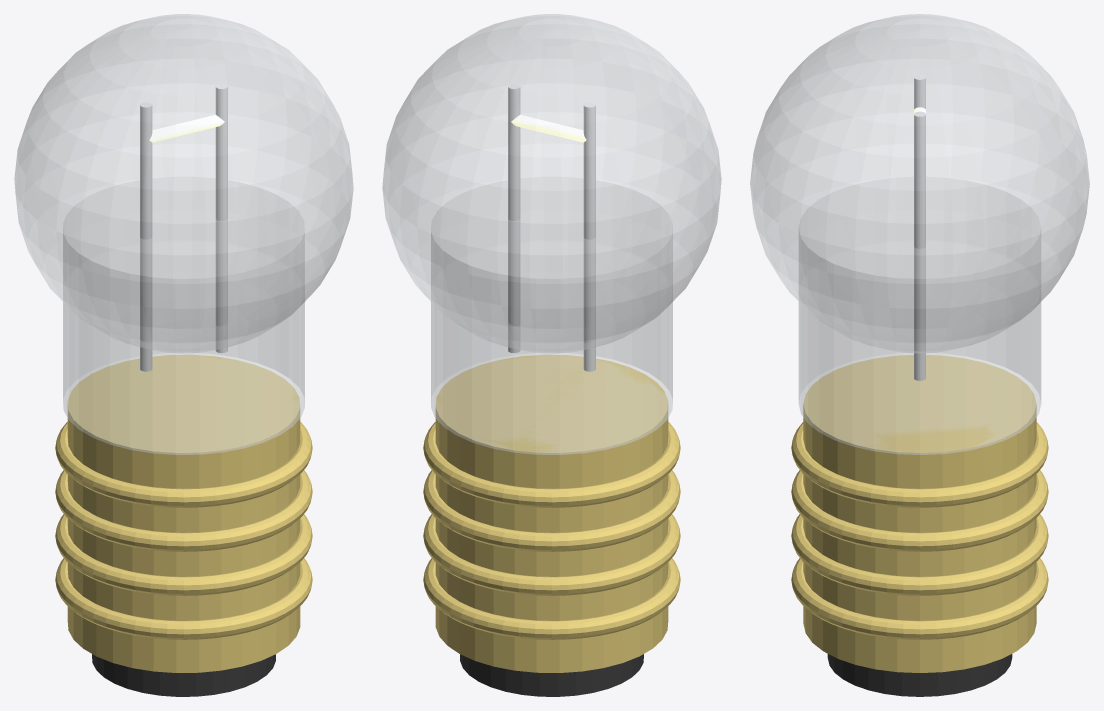
Rendered from bulb_incandescent.glb.
3 views of the same model, side by side, from view 1: azimuth 30°, elevation 25°; view 2: azimuth 150°, elevation 25°; view 3: azimuth 270°, elevation 25° (orthographic).
Parts seen in each view (by area): view 1: Bulb_Glass_Dome, Bulb_Glass_Neck, Bulb_Screw_Base, Torus.003, Torus, Torus.001, Torus.002, Cylinder.002, Cylinder, Cylinder.001, Bulb_Filament_Tungsten; view 2: Bulb_Glass_Dome, Bulb_Glass_Neck, Bulb_Screw_Base, Torus.003, Torus, Torus.001, Torus.002, Cylinder.002, Cylinder, Cylinder.001, Bulb_Filament_Tungsten; view 3: Bulb_Glass_Dome, Bulb_Glass_Neck, Bulb_Screw_Base, Torus.003, Torus, Torus.002, Torus.001, Cylinder.002, Cylinder.001.
Boxes of the visible parts, x1=… form: Bulb_Glass_Dome: x1=14, y1=14, x2=353, y2=353; Bulb_Glass_Neck: x1=63, y1=177, x2=304, y2=454; Bulb_Screw_Base: x1=67, y1=354, x2=300, y2=672; Torus.003: x1=55, y1=422, x2=312, y2=507; Torus: x1=55, y1=558, x2=312, y2=639; Torus.001: x1=55, y1=514, x2=312, y2=595; Torus.002: x1=55, y1=470, x2=312, y2=551; Cylinder.002: x1=92, y1=654, x2=275, y2=696; Cylinder: x1=140, y1=102, x2=152, y2=371; Cylinder.001: x1=215, y1=84, x2=227, y2=353; Bulb_Filament_Tungsten: x1=149, y1=115, x2=224, y2=142; Bulb_Glass_Dome: x1=382, y1=14, x2=721, y2=353; Bulb_Glass_Neck: x1=431, y1=177, x2=672, y2=454; Bulb_Screw_Base: x1=435, y1=354, x2=668, y2=672; Torus.003: x1=423, y1=422, x2=680, y2=507; Torus: x1=423, y1=558, x2=680, y2=639; Torus.001: x1=423, y1=514, x2=680, y2=595; Torus.002: x1=423, y1=470, x2=680, y2=551; Cylinder.002: x1=460, y1=654, x2=643, y2=696; Cylinder: x1=583, y1=102, x2=595, y2=371; Cylinder.001: x1=508, y1=84, x2=520, y2=353; Bulb_Filament_Tungsten: x1=511, y1=115, x2=586, y2=142; Bulb_Glass_Dome: x1=750, y1=14, x2=1089, y2=353; Bulb_Glass_Neck: x1=798, y1=177, x2=1041, y2=454; Bulb_Screw_Base: x1=803, y1=355, x2=1036, y2=672; Torus.003: x1=791, y1=422, x2=1048, y2=507; Torus: x1=791, y1=558, x2=1048, y2=639; Torus.002: x1=791, y1=470, x2=1048, y2=551; Torus.001: x1=791, y1=514, x2=1048, y2=595; Cylinder.002: x1=827, y1=654, x2=1012, y2=696; Cylinder.001: x1=914, y1=111, x2=925, y2=380.
Size of the model in its own units: 0.014 by 0.0296 by 0.014.
